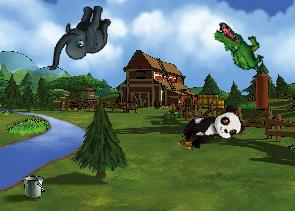crocodile: (205, 20, 274, 76)
elephant: (48, 0, 112, 76)
panda: (179, 102, 246, 154)
